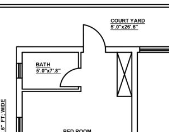door: (80, 19, 108, 57), (55, 60, 86, 88)
window: (11, 61, 31, 81), (10, 114, 27, 132)
